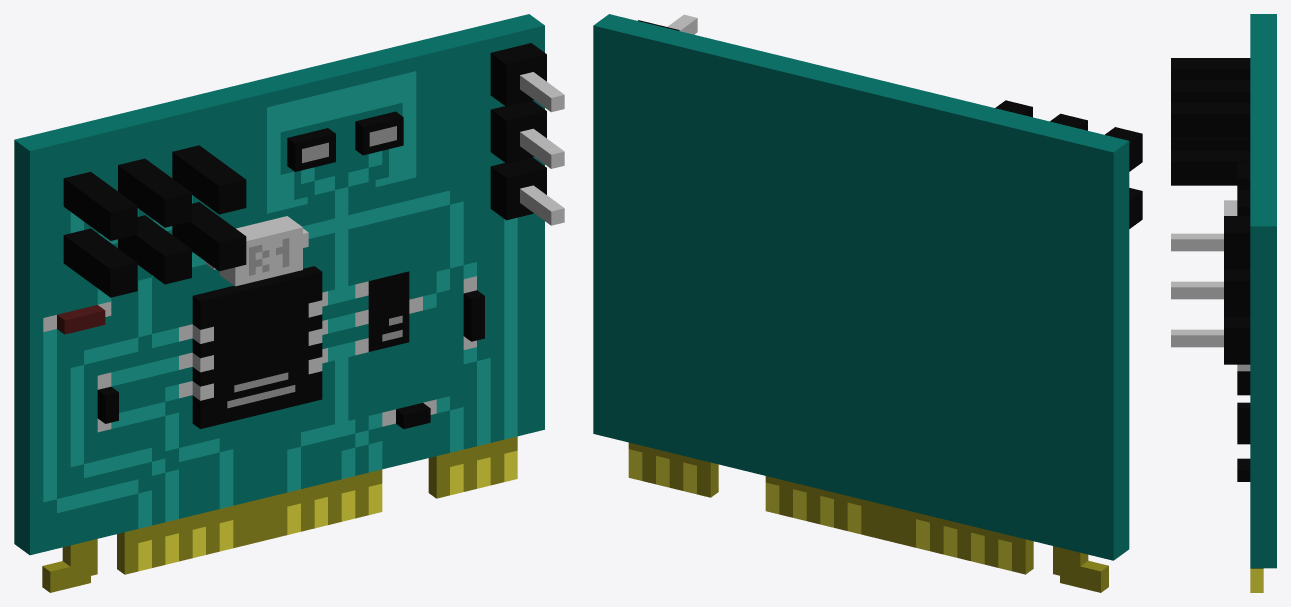
File: MinerGameItems-0-mainPlate.obj
3 views of the same model, side by side, from view 1: azimuth 30°, elevation 25°; view 2: azimuth 150°, elevation 25°; view 3: azimuth 270°, elevation 25° (orthographic). The views are drawn at different scales.
Parts seen in each view (by area): view 1: mainPlate; view 2: mainPlate; view 3: mainPlate.
Part boxes in pixels (bbox=[...]): mainPlate: bbox=[14, 14, 564, 592]; mainPlate: bbox=[593, 14, 1142, 592]; mainPlate: bbox=[1171, 14, 1276, 592].
Bounding box in the file's own units: 7.6 × 6.3 × 1.6.
1 material, 1 textured.
